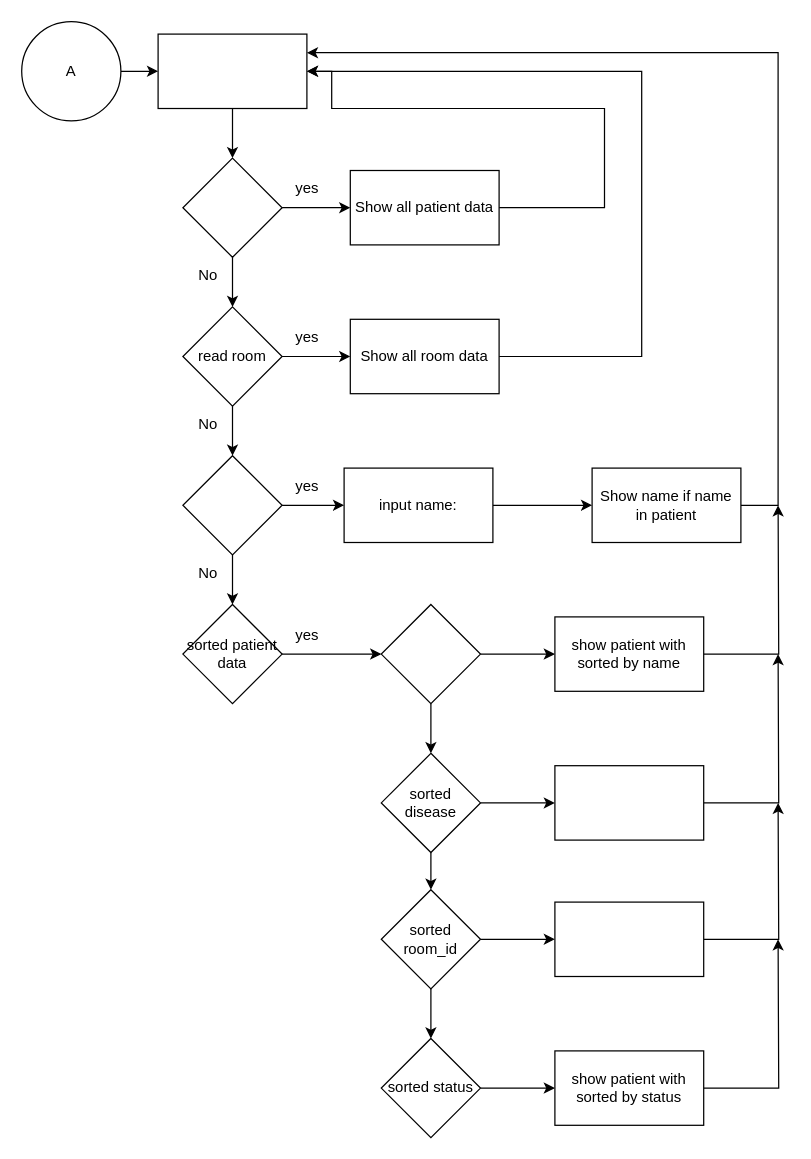
This 811x1159 diagram has some shape labels left out. The shapes that lost their labels are listed below. From the top down, each one's centre as x and y in pixels, then its label:
At (232,70): "Menu".
At (232,207): "read patient".
At (232,504): "find patient".
At (430,653): "sorted name".
At (629,802): "show patient with sorted by disease".
At (629,938): "show patient with sorted by room_id".
